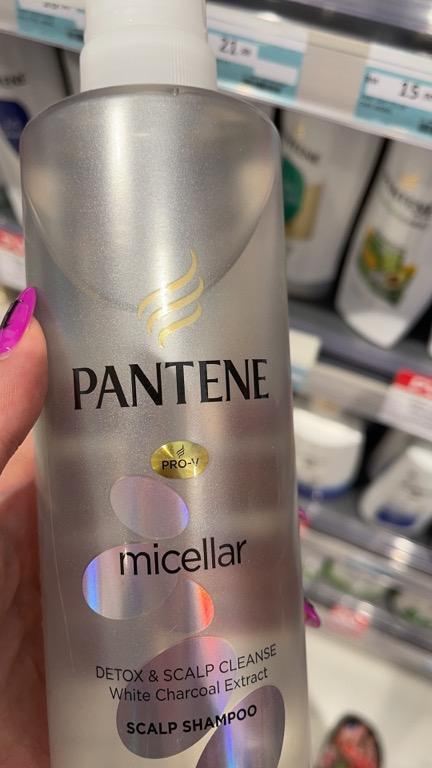plastic: (22, 0, 308, 767)
